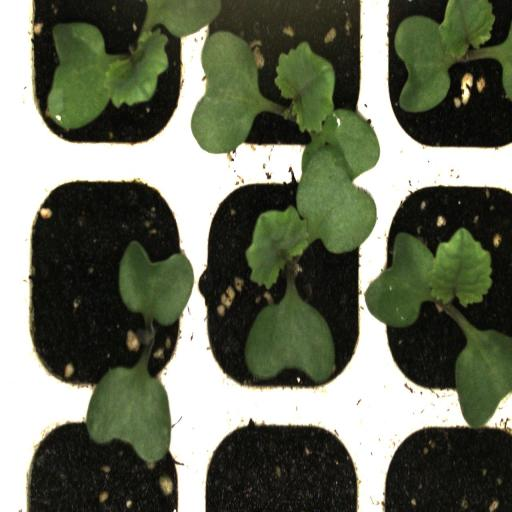Folha: (85, 358, 171, 464), (245, 283, 335, 384), (454, 313, 512, 430), (118, 240, 195, 326)
Germinacao: (10, 164, 194, 403), (194, 165, 375, 402), (374, 166, 512, 408), (9, 0, 196, 171), (191, 0, 376, 170), (371, 2, 512, 164)
